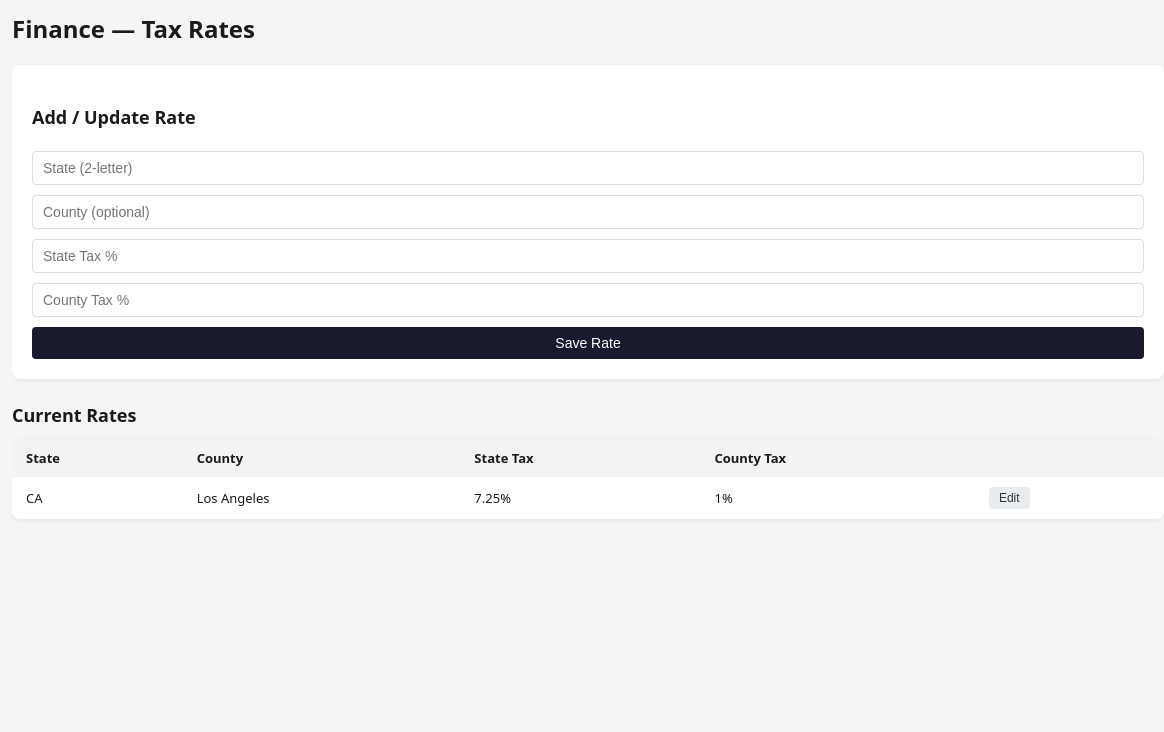
FinancePage — edit rate › clicking Edit populates the form fields
This screenshot has width=1164, height=732.
Check: the text "CA" is shown, box [12,477,183,519]
What coordinates should you click on to do the following:
click the button "Edit"
I would click on:
 (1009, 498)
Its box is [989,487,1030,509].
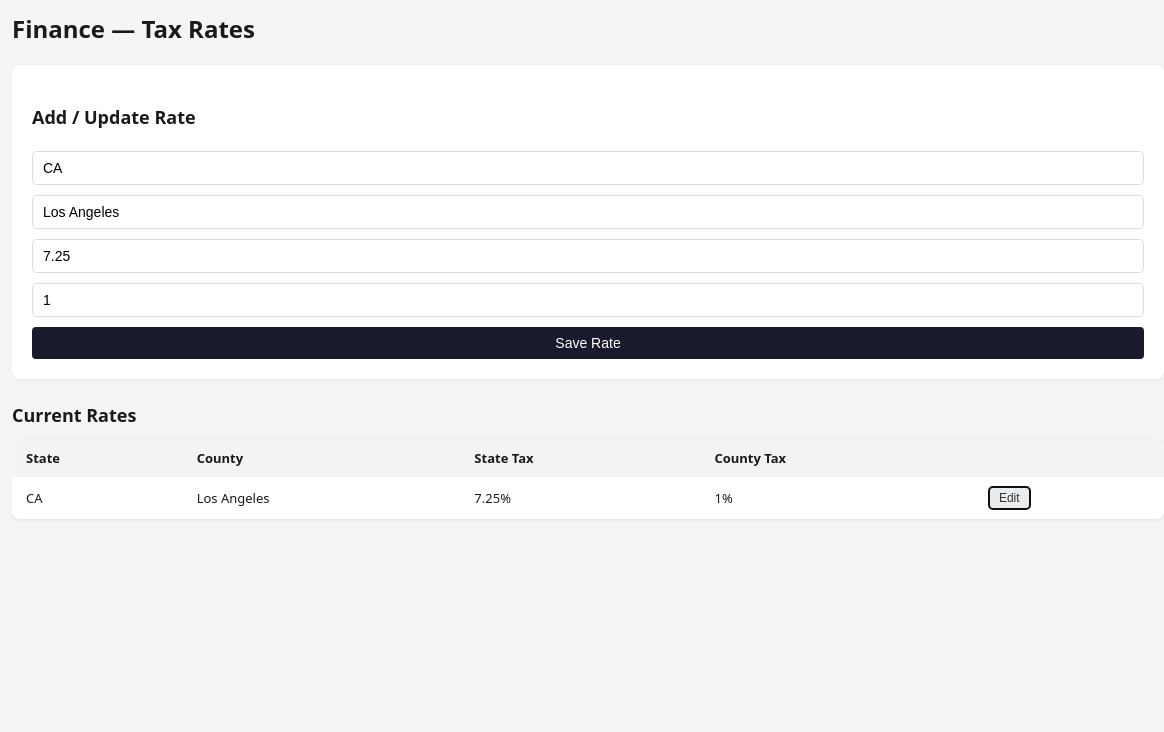
Check: the 1st field with placeholder "State (2-letter)" holds "CA", box [32,151,1144,185]
Check: the 2nd field with placeholder "County (optional)" holds "Los Angeles", box [32,195,1144,229]
Check: the 1st number field with placeholder "State Tax %" holds "7.25", box [32,239,1144,273]
